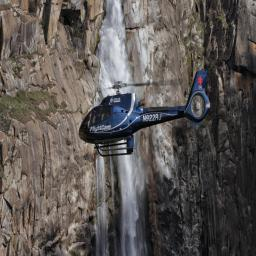helicopter: (78, 55, 216, 165)
